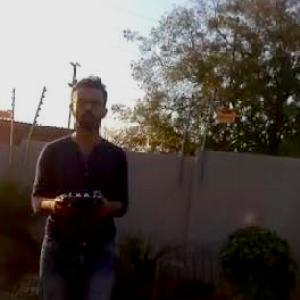follow: (26, 67, 132, 299)
